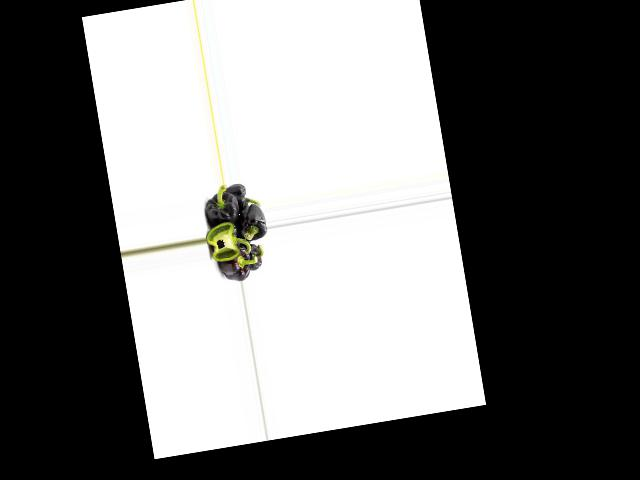bell_pepper: (217, 239, 253, 283)
